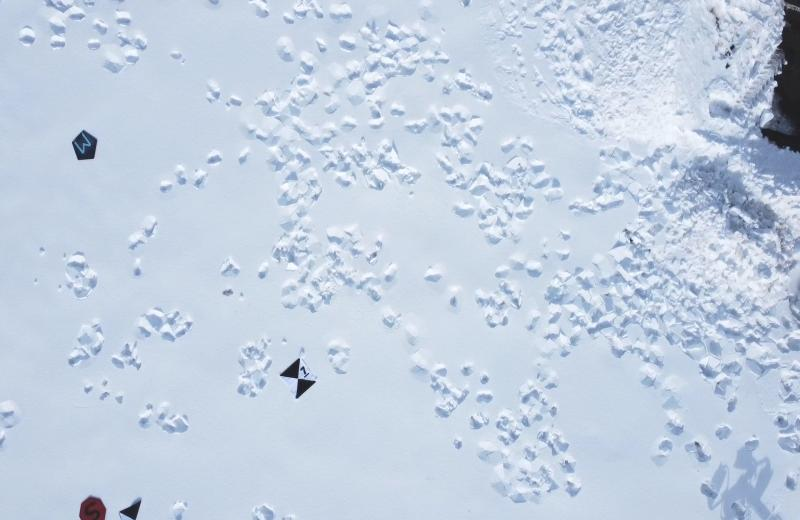Octagon: (76, 480, 108, 520)
Pentagon: (68, 122, 102, 165)
